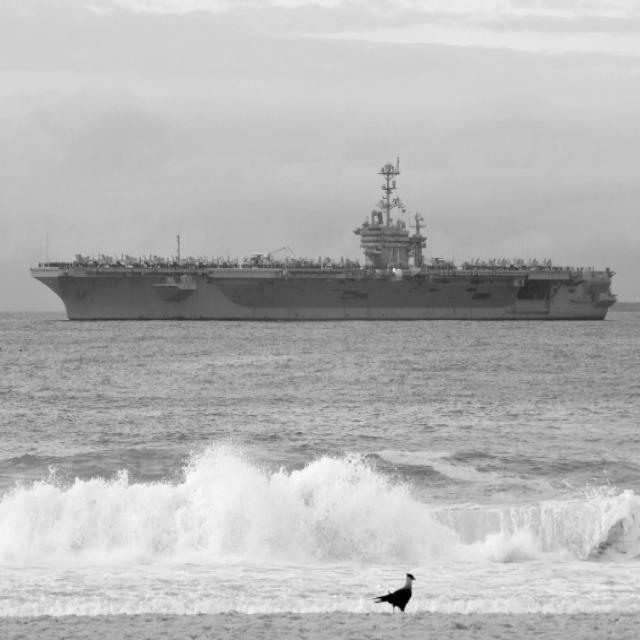Portanaves: (29, 147, 624, 330)
